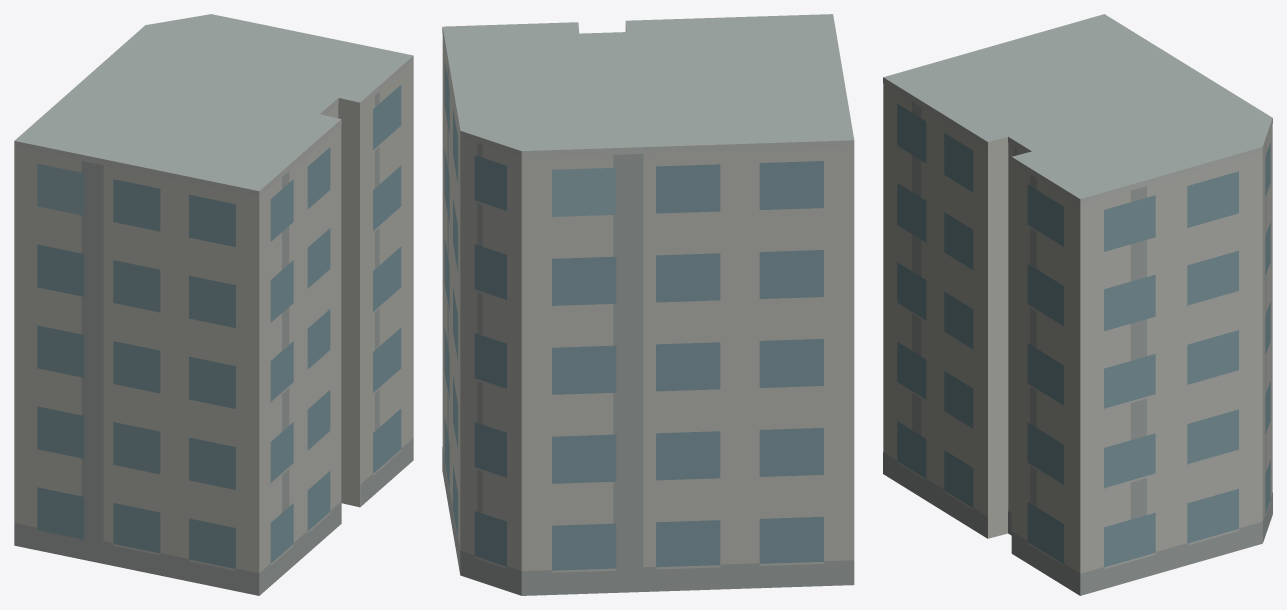
File: survey-upis-32854378.glb
3 views of the same model, side by side, from view 1: azimuth 30°, elevation 25°; view 2: azimuth 150°, elevation 25°; view 3: azimuth 270°, elevation 25° (orthographic). The views are drawn at different scales.
Parts seen in each view (by area): view 1: survey-upis-32854378.tmp; view 2: survey-upis-32854378.tmp; view 3: survey-upis-32854378.tmp.
Part boxes in pixels (x1,y1,x2,y2): survey-upis-32854378.tmp: (14, 14, 413, 595); survey-upis-32854378.tmp: (442, 14, 854, 595); survey-upis-32854378.tmp: (883, 14, 1272, 595).
Bounding box in the file's own units: 16.12 × 16.1 × 14.33.
